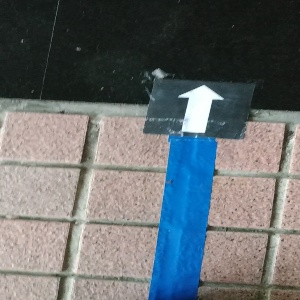straight: (141, 78, 251, 138)
